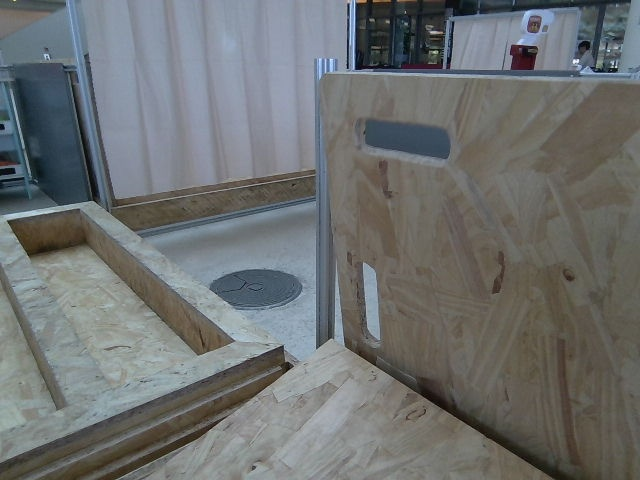curtain: (0, 0, 320, 202), (461, 24, 525, 96)
